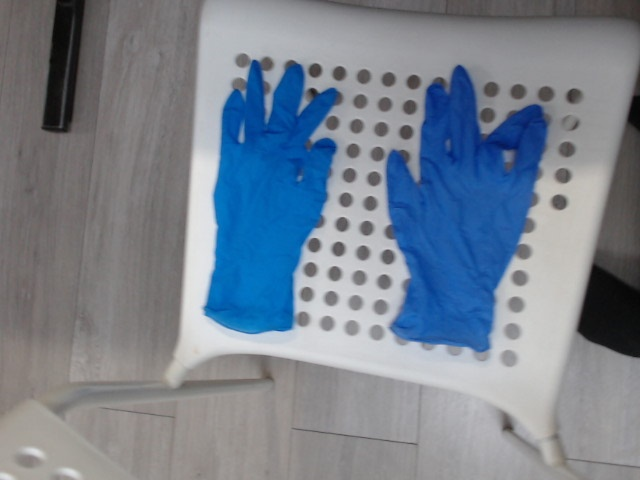medical_glove: (386, 66, 544, 350), (204, 60, 339, 326)
